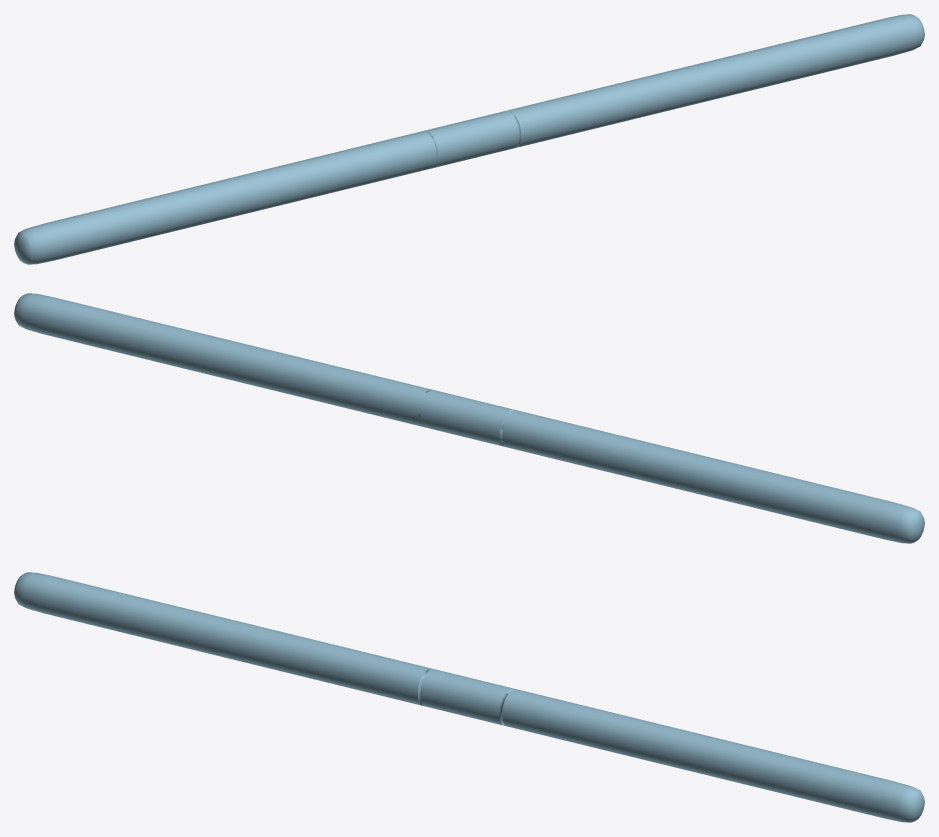
File: Arms_00.dae
3 renders of one model, top to bottom at view 1: azimuth 30°, elevation 25°; view 2: azimuth 150°, elevation 25°; view 3: azimuth 330°, elevation 25°, orthographic.
Parts seen in each view (by area): view 1: Cube_009; view 2: Cube_009; view 3: Cube_009.
Part boxes in pixels (box(x1,y1,x2,y2)): Cube_009: box(14, 14, 924, 264); Cube_009: box(14, 293, 924, 543); Cube_009: box(14, 572, 924, 822).
Bounding box in the file's own units: 5.77 × 0.2107 × 0.2107.
